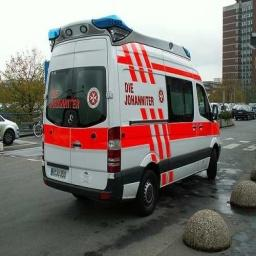ambulance: (42, 16, 220, 215)
